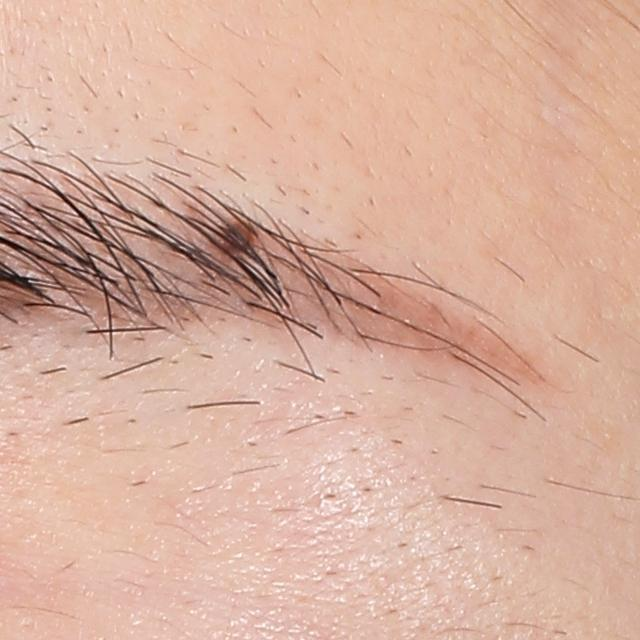nevus: (220, 211, 251, 261)
